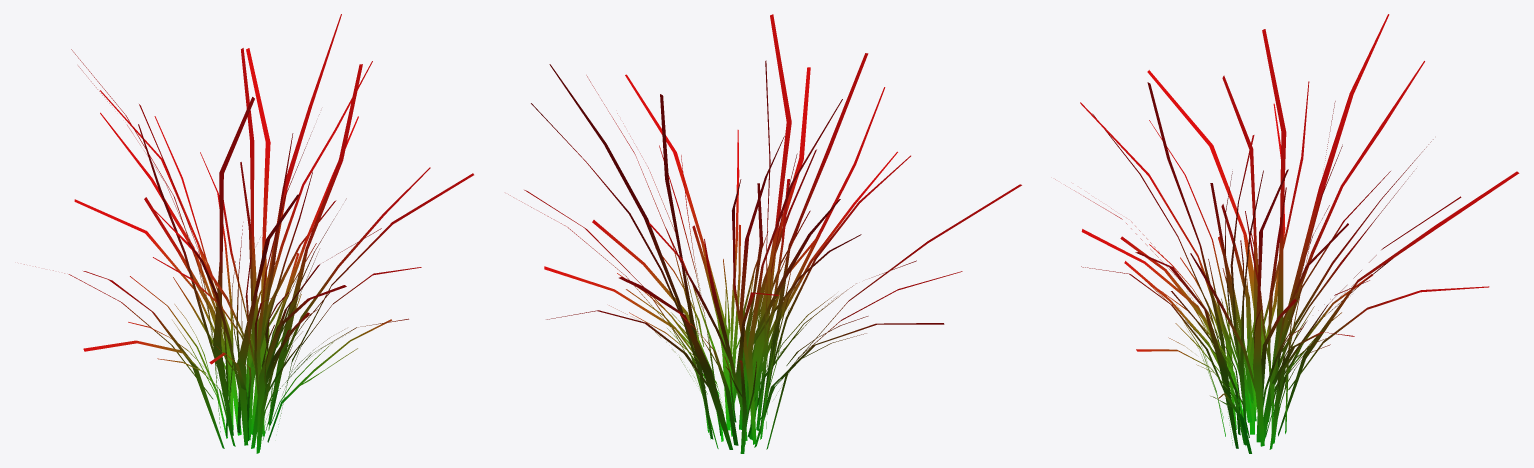
The model's file is Rough Meadow Grass_LOD2_Var4_skFjJ.fbx.
3 views of the same model, side by side, from view 1: azimuth 30°, elevation 25°; view 2: azimuth 150°, elevation 25°; view 3: azimuth 270°, elevation 25° (orthographic). The views are drawn at different scales.
Parts seen in each view (by area): view 1: _783d_Var4_LOD2; view 2: _783d_Var4_LOD2; view 3: _783d_Var4_LOD2.
Part boxes in pixels (bbox=[...]): _783d_Var4_LOD2: bbox=[24, 14, 473, 453]; _783d_Var4_LOD2: bbox=[508, 14, 1021, 453]; _783d_Var4_LOD2: bbox=[1055, 14, 1519, 453].
Bounding box in the file's own units: 53.54 × 48.93 × 55.03.
